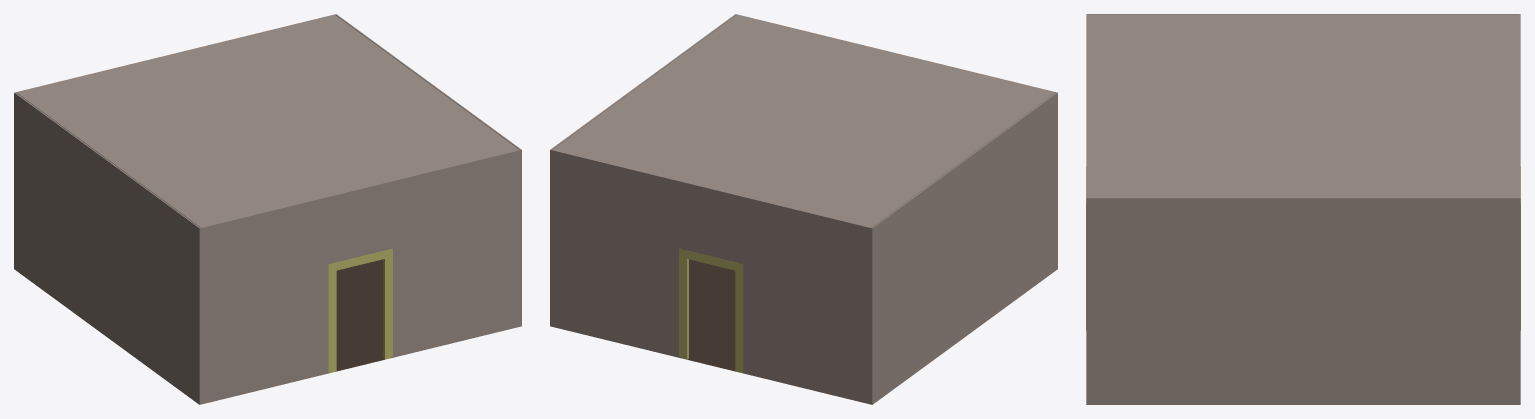
Rendered from Room24_Gardens.fbx.
3 renders of one model, left to right at view 1: azimuth 30°, elevation 25°; view 2: azimuth 150°, elevation 25°; view 3: azimuth 270°, elevation 25°, orthographic. The views are drawn at different scales.
Visible parts, largest first — view 1: Roof, WallSlicedPosZ, WallPosX, WallSlicedPosZ17, WallPosX20, Floor, DoorFramePosZ, WallNegX; view 2: Roof, WallSlicedNegZ, WallPosX, WallSlicedNegZ36, WallPosX20, Floor, DoorFrameNegZ, WallNegX; view 3: Roof, WallNegX, WallNegX21, WallPosX.
Part boxes in pixels (bbox=[...]): Roof: bbox=[17, 15, 518, 227]; WallSlicedPosZ: bbox=[199, 149, 521, 364]; WallPosX: bbox=[14, 92, 200, 364]; WallSlicedPosZ17: bbox=[200, 286, 521, 404]; WallPosX20: bbox=[14, 229, 201, 404]; Floor: bbox=[329, 259, 392, 373]; DoorFramePosZ: bbox=[328, 248, 392, 372]; WallNegX: bbox=[336, 14, 521, 285]; Roof: bbox=[553, 15, 1054, 227]; WallSlicedNegZ: bbox=[550, 149, 871, 364]; WallPosX: bbox=[871, 92, 1057, 364]; WallSlicedNegZ36: bbox=[550, 286, 870, 404]; WallPosX20: bbox=[870, 229, 1057, 404]; Floor: bbox=[679, 259, 742, 373]; DoorFrameNegZ: bbox=[679, 248, 743, 372]; WallNegX: bbox=[550, 14, 735, 285]; Roof: bbox=[1088, 15, 1518, 197]; WallNegX: bbox=[1086, 197, 1520, 357]; WallNegX21: bbox=[1086, 357, 1520, 404]; WallPosX: bbox=[1086, 14, 1520, 14].
Bounding box in the file's own units: 802 × 420 × 800.
